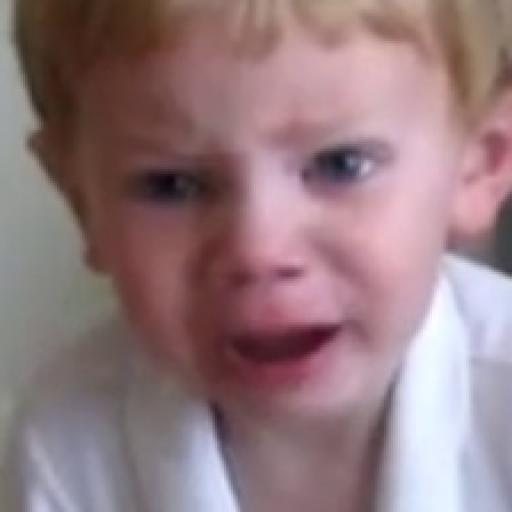Autism: (16, 0, 510, 409)
